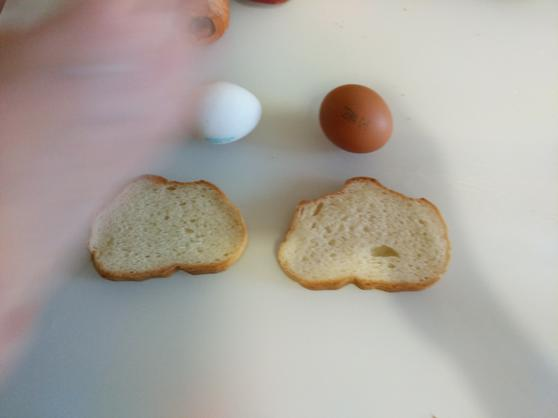egg: (183, 80, 263, 145), (318, 84, 393, 153)
white_bread: (276, 176, 451, 293), (89, 174, 248, 280)
